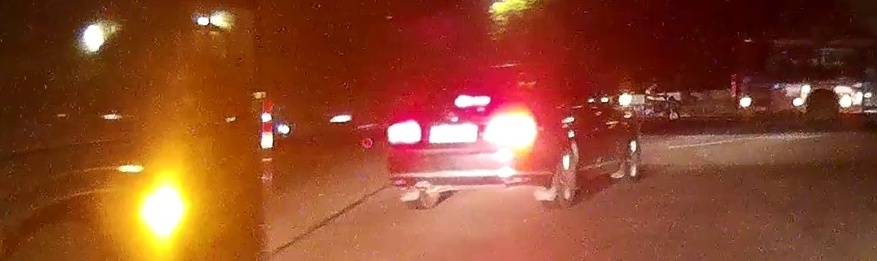L_light: (386, 119, 423, 145)
R_light: (483, 114, 538, 141)
T_light: (454, 94, 491, 109)
night-right: (384, 63, 555, 209)
